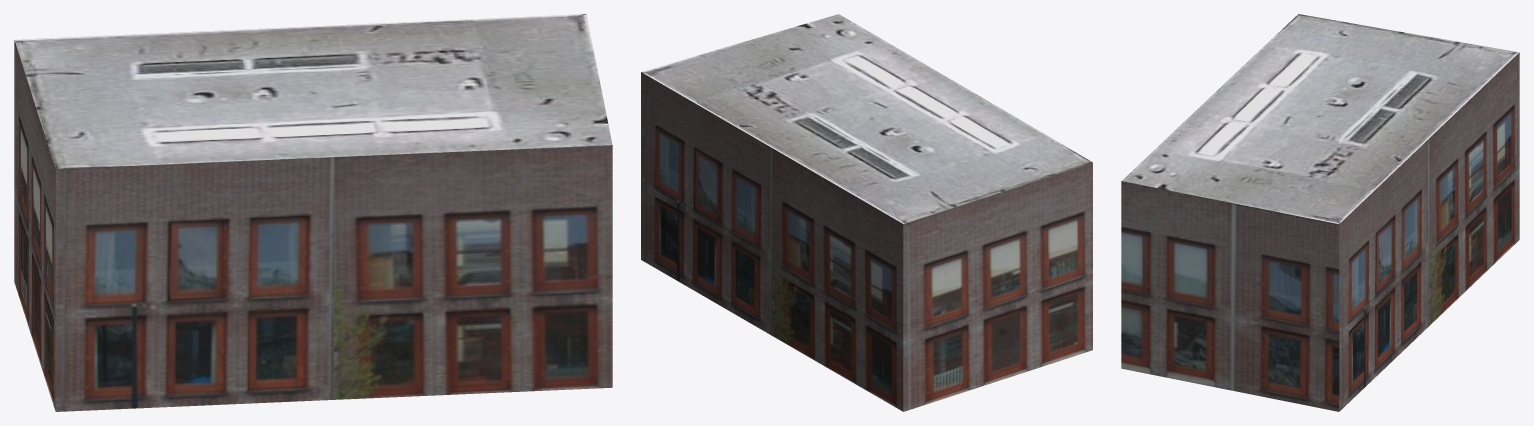
File: EduTex__6.fbx
The picture shows the model from 3 angles, left to right: view 1: azimuth 30°, elevation 25°; view 2: azimuth 150°, elevation 25°; view 3: azimuth 270°, elevation 25°; orthographic projection. The views are drawn at different scales.
Visible parts, largest first — view 1: CityEngineMaterial_9_m, CityEngineMaterial_8_m; view 2: CityEngineMaterial_9_m, CityEngineMaterial_8_m; view 3: CityEngineMaterial_9_m, CityEngineMaterial_8_m.
Part boxes in pixels (bbox=[...]): CityEngineMaterial_9_m: bbox=[14, 40, 612, 411]; CityEngineMaterial_8_m: bbox=[14, 14, 612, 169]; CityEngineMaterial_9_m: bbox=[641, 72, 1092, 411]; CityEngineMaterial_8_m: bbox=[641, 14, 1092, 223]; CityEngineMaterial_9_m: bbox=[1121, 52, 1519, 411]; CityEngineMaterial_8_m: bbox=[1122, 14, 1518, 223].
Bounding box in the file's own units: 14.42 × 6 × 11.53.
Materials: 2 (2 with a texture image).
